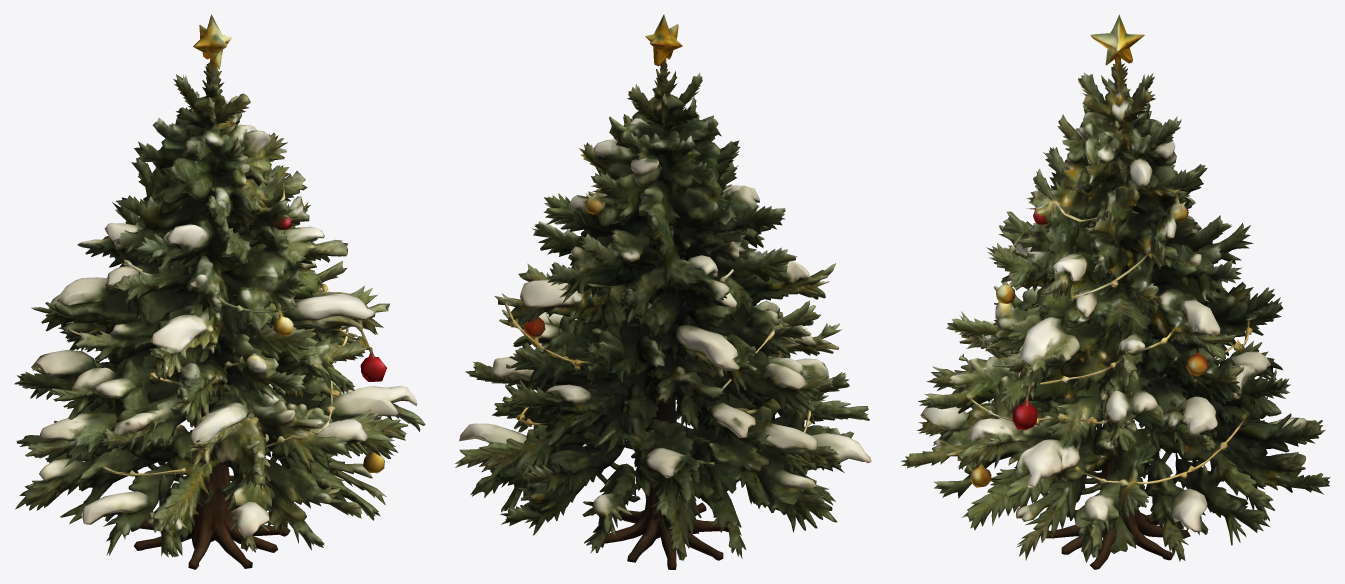
The model's file is christmas-fir-tripo.glb.
The picture shows the model from 3 angles, left to right: view 1: azimuth 30°, elevation 25°; view 2: azimuth 150°, elevation 25°; view 3: azimuth 270°, elevation 25°; orthographic projection.
Parts seen in each view (by area): view 1: tripo_node_72739308-a2f6-4503-9679-672da760fc63; view 2: tripo_node_72739308-a2f6-4503-9679-672da760fc63; view 3: tripo_node_72739308-a2f6-4503-9679-672da760fc63.
Part boxes in pixels (x1,y1,x2,y2): tripo_node_72739308-a2f6-4503-9679-672da760fc63: (14,14,425,569); tripo_node_72739308-a2f6-4503-9679-672da760fc63: (455,14,871,569); tripo_node_72739308-a2f6-4503-9679-672da760fc63: (901,14,1330,569).
Size of the model in its own units: 0.7154 by 0.9753 by 0.725.
Materials: 1 (1 with a texture image).
